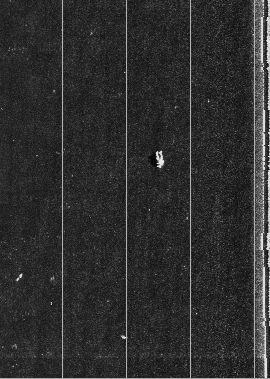man: (153, 149, 165, 169)
